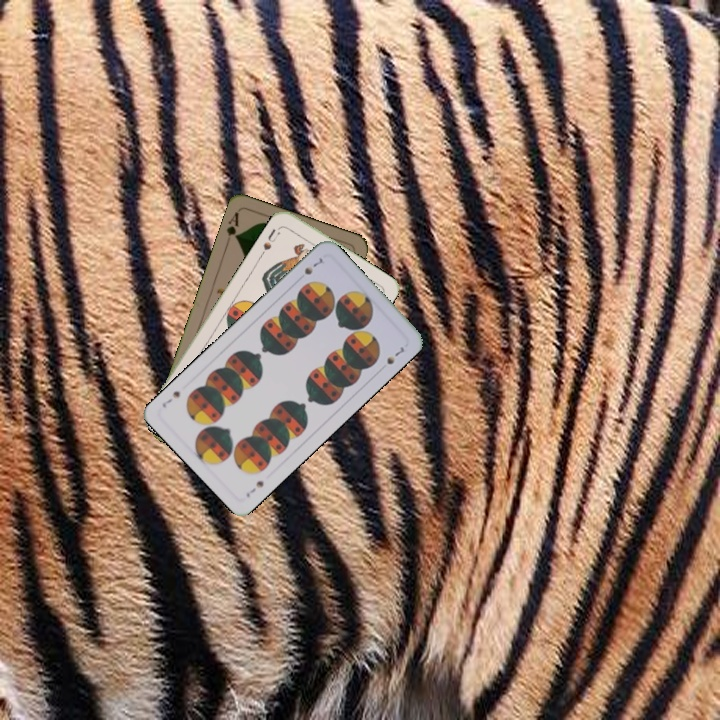GA: (222, 208, 241, 242)
S7: (300, 254, 326, 277), (242, 477, 266, 500)
SU: (259, 224, 283, 253)
